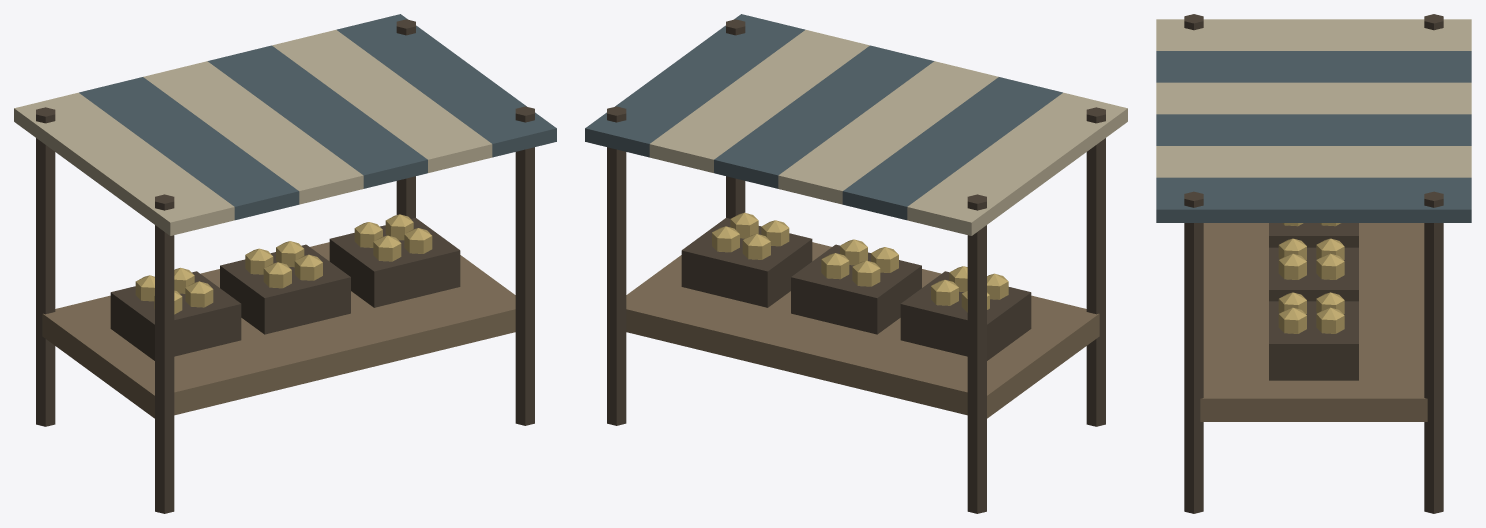
Rendered from BLD_Market_00_Stall.glb.
3 renders of one model, left to right at view 1: azimuth 30°, elevation 25°; view 2: azimuth 150°, elevation 25°; view 3: azimuth 270°, elevation 25°, orthographic.
Parts seen in each view (by area): view 1: BLD_Market_00_Stall; view 2: BLD_Market_00_Stall; view 3: BLD_Market_00_Stall.
Boxes of the visible parts, x1,y1,x2,y2 form: BLD_Market_00_Stall: (14,14,556,513); BLD_Market_00_Stall: (585,14,1127,513); BLD_Market_00_Stall: (1156,14,1471,513).
Bounding box in the file's own units: 3 × 2.3 × 2.1.
